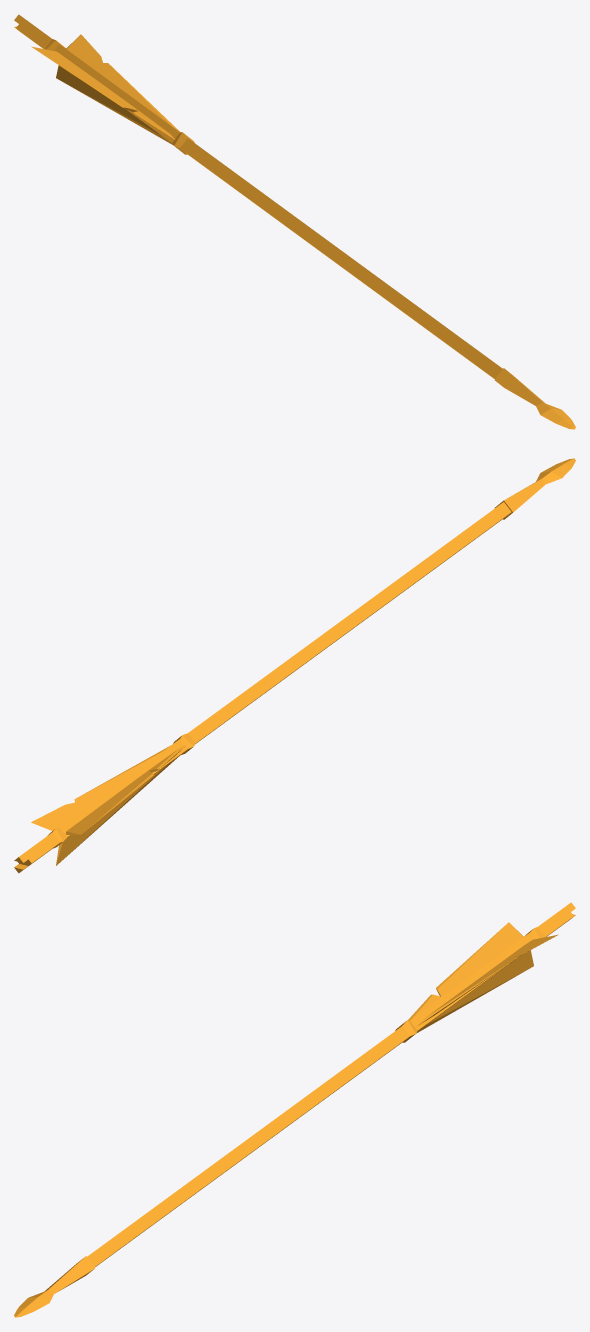
File: SM_Arrow_E_Fantasy.fbx
3 views of the same model, one above another, from view 1: azimuth 30°, elevation 25°; view 2: azimuth 150°, elevation 25°; view 3: azimuth 330°, elevation 25° (orthographic).
Visible parts, largest first — view 1: arrow-e-fantasy; view 2: arrow-e-fantasy; view 3: arrow-e-fantasy.
Boxes of the visible parts, x1=… form: arrow-e-fantasy: x1=14, y1=14, x2=575, y2=429; arrow-e-fantasy: x1=14, y1=458, x2=575, y2=873; arrow-e-fantasy: x1=14, y1=902, x2=575, y2=1317.
Size of the model in its own units: 0.054 by 0.0395 by 1.03.
